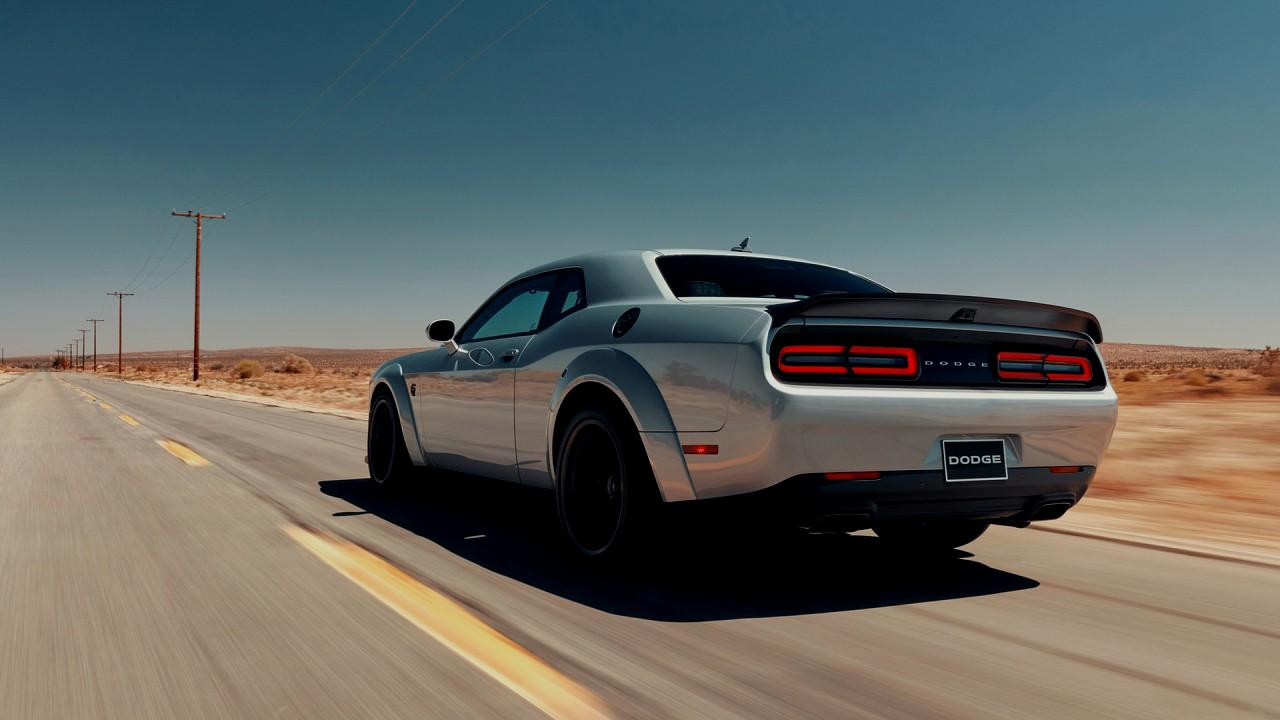dodge: (917, 351, 997, 377)
